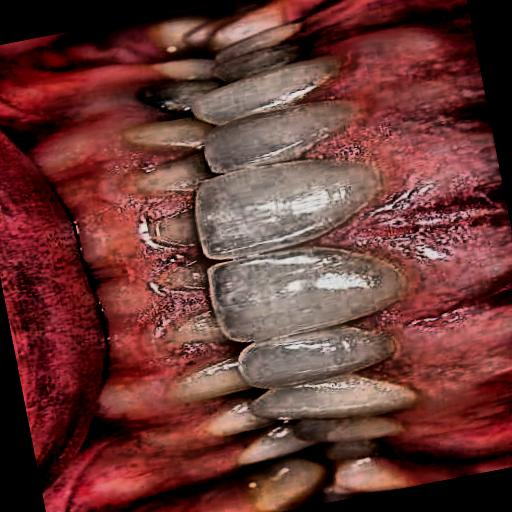Gingivitis: (293, 0, 512, 463)
